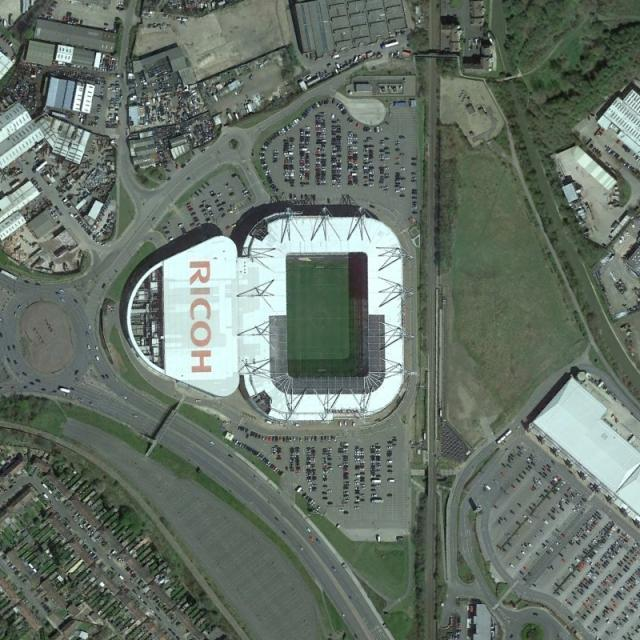vehicle: (1, 270, 17, 280), (58, 385, 73, 394), (94, 355, 101, 362), (86, 344, 92, 351), (306, 527, 311, 533), (298, 546, 304, 551), (332, 566, 337, 572), (341, 612, 346, 618), (23, 280, 30, 284), (34, 282, 41, 286), (86, 331, 90, 338), (95, 345, 99, 352), (210, 441, 215, 446), (60, 298, 66, 302), (132, 414, 138, 418), (79, 398, 85, 402), (88, 402, 94, 406), (310, 536, 314, 541), (152, 218, 156, 222), (55, 291, 60, 294)
